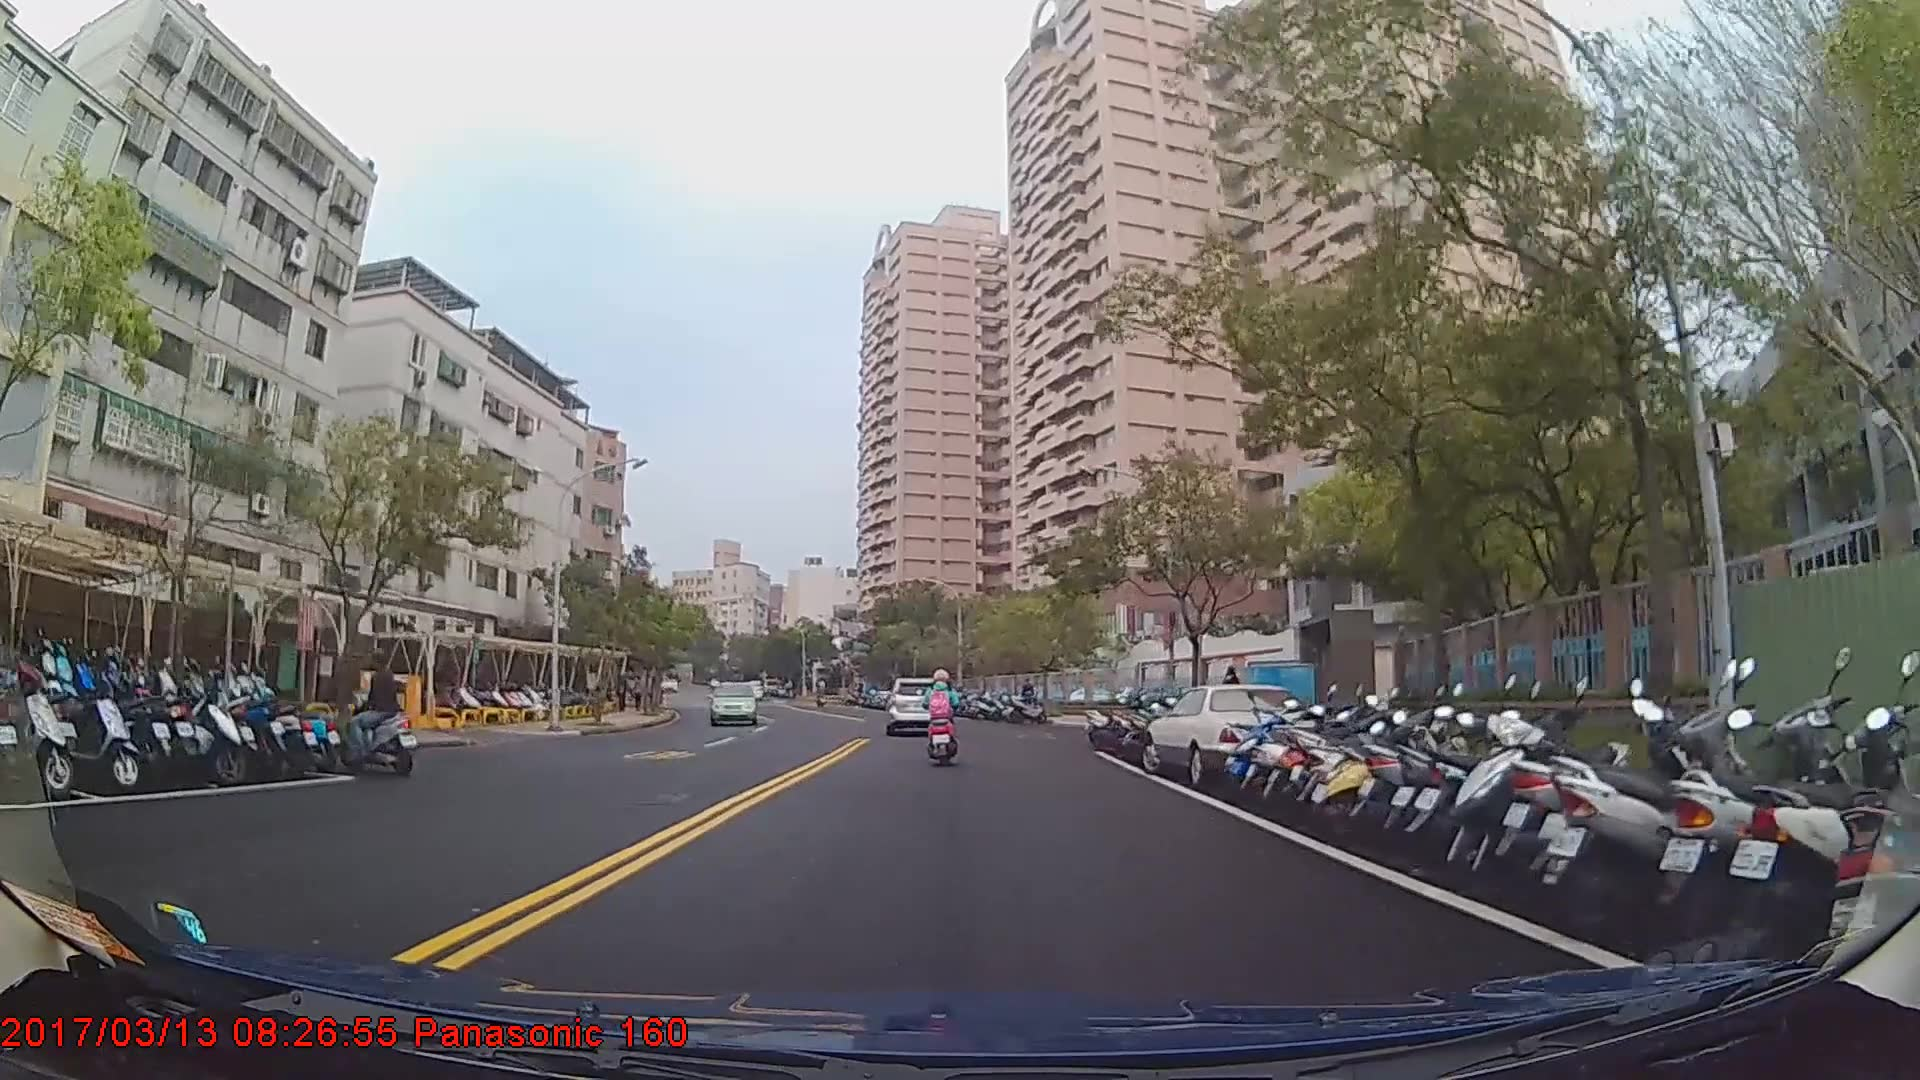pedestrian: (1223, 665, 1246, 726)
rider: (336, 647, 405, 769), (923, 669, 963, 768)
vehicle: (1143, 681, 1315, 786), (881, 676, 945, 735), (707, 680, 759, 728)
